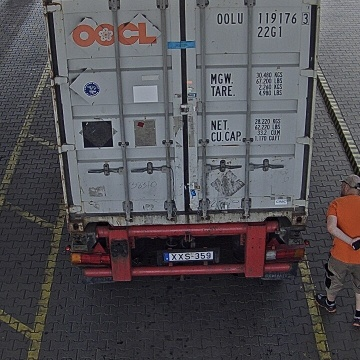serial_id: (217, 12, 309, 24)
